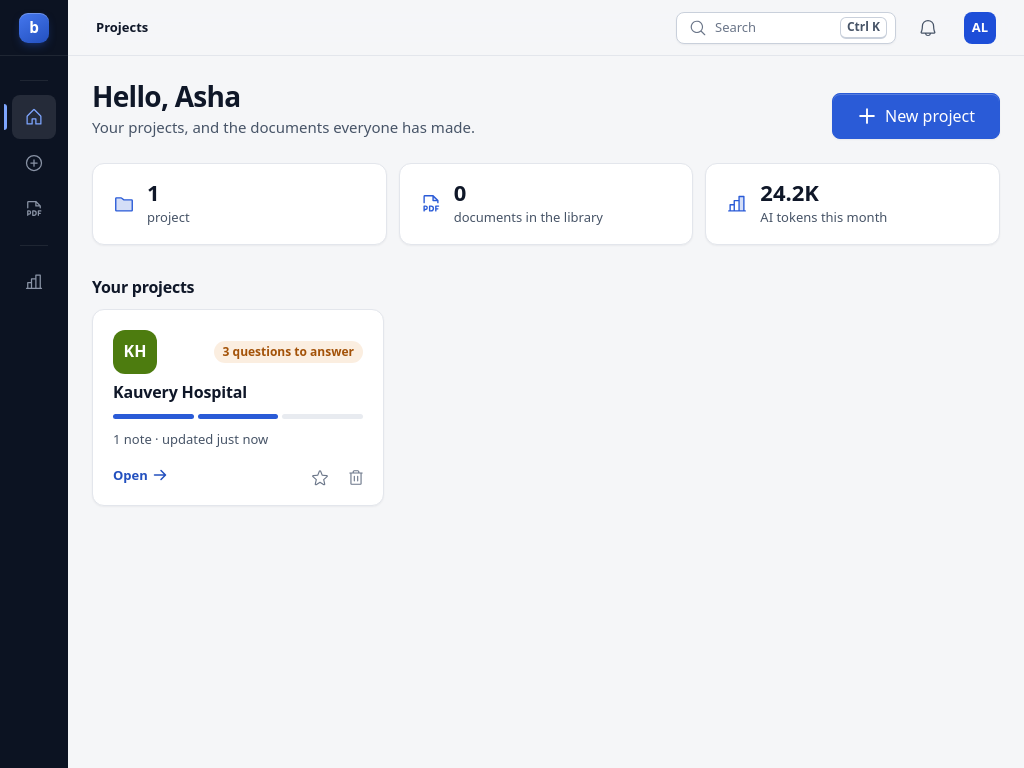
Test case: changing your own password › sends the passwords, keeps the person signed in with the new tokens, and says it worked
Click the button with aria-label "Account menu": x=980, y=28 x1=960 y1=8 x2=1000 y2=48
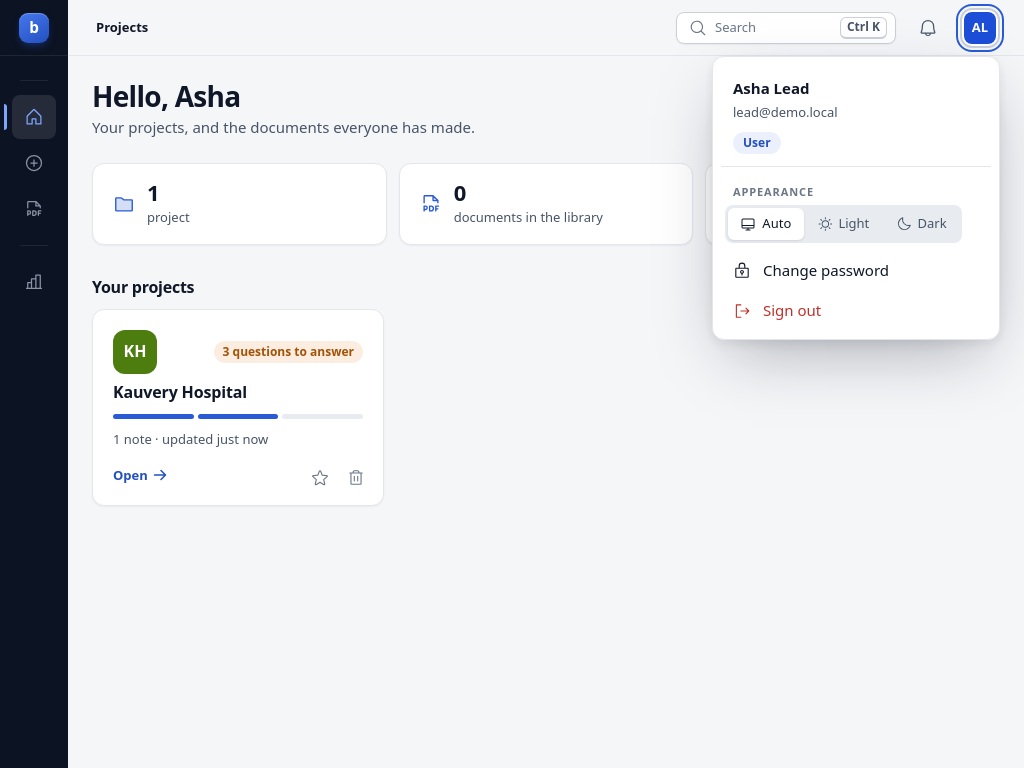
Click the menu item "Change password": x=856, y=270 x1=721 y1=250 x2=991 y2=290
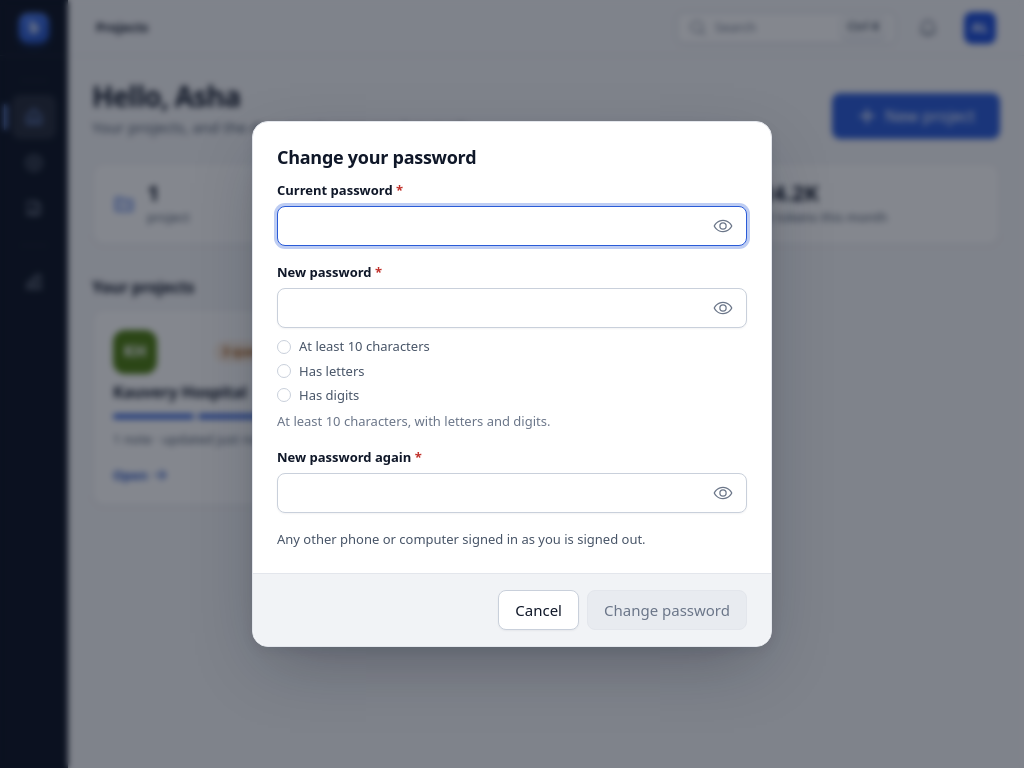
In the password field labelled "Current password": x=512, y=226 x1=277 y1=206 x2=747 y2=246, type "Old-Passw0rd-1"
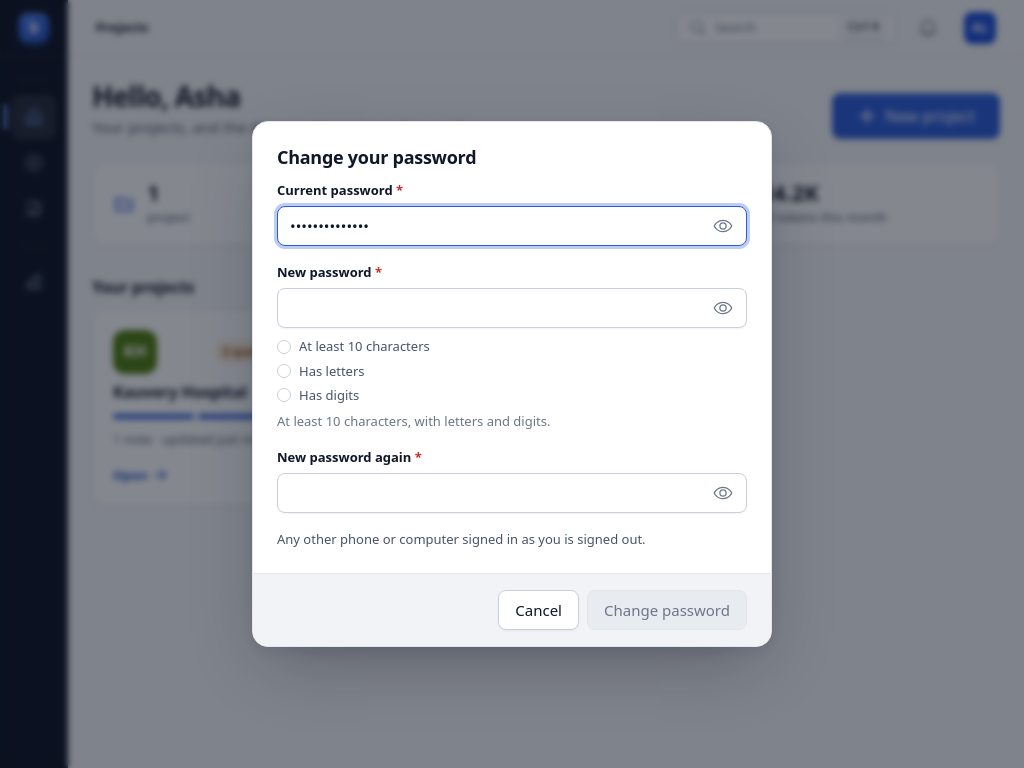
In the password field labelled "New password": x=512, y=308 x1=277 y1=288 x2=747 y2=328, type "New-Passw0rd-123"
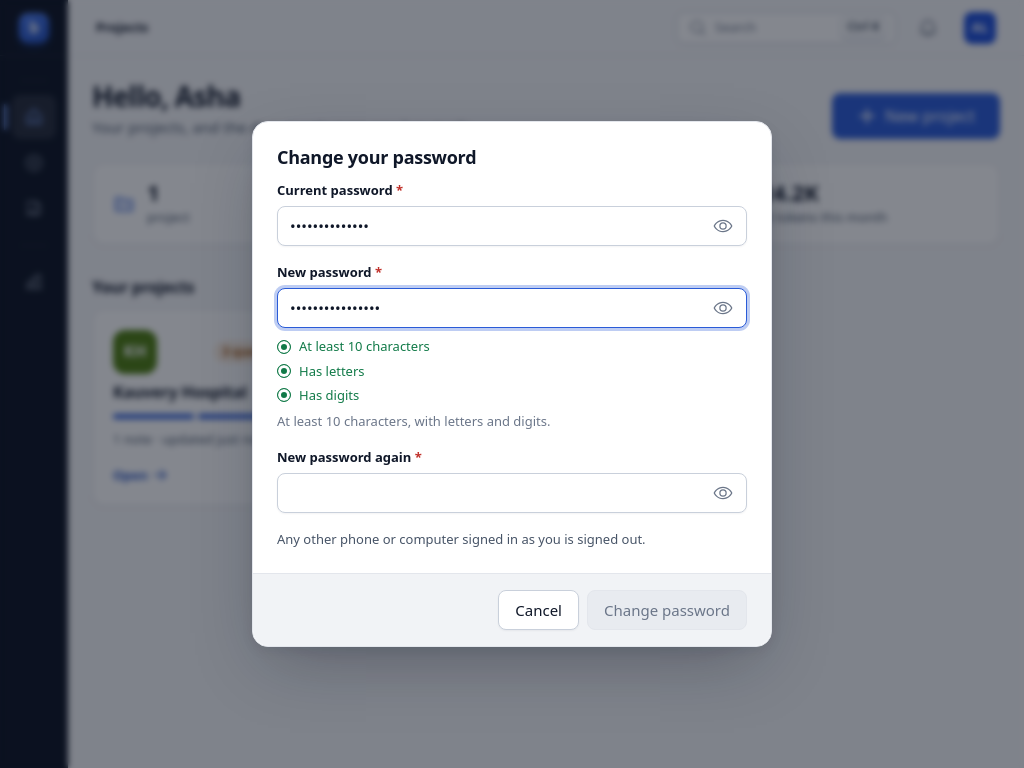
In the password field labelled "New password again": x=512, y=493 x1=277 y1=473 x2=747 y2=513, type "New-Passw0rd-123"
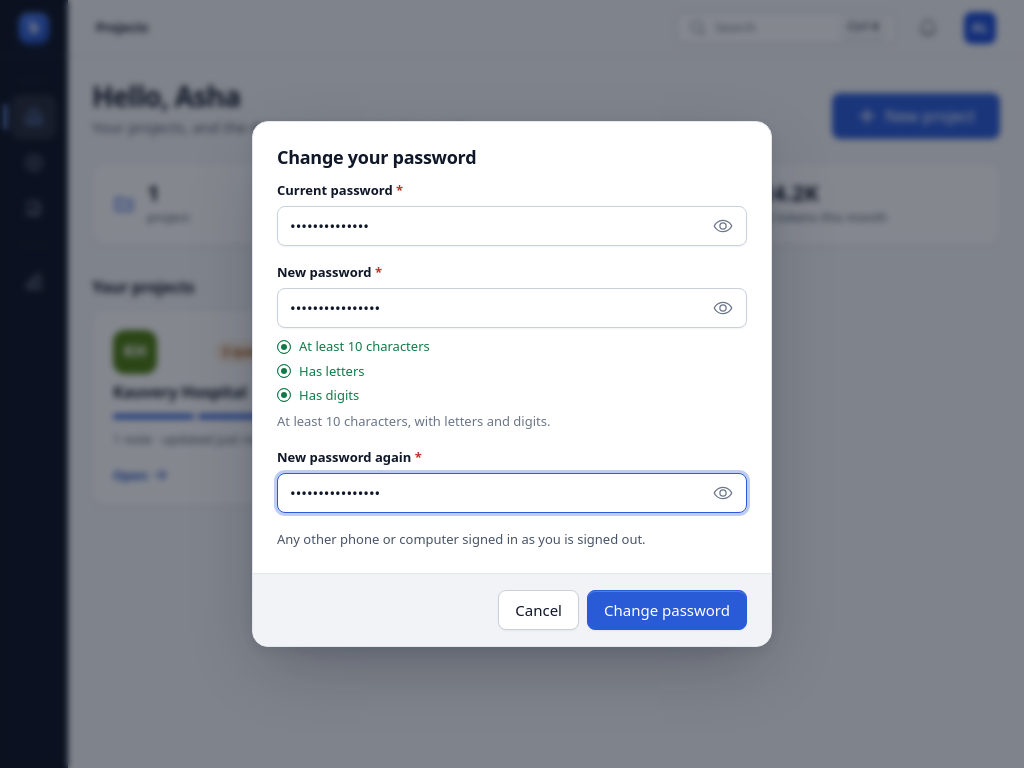
Click the button "Change password": x=667, y=610 x1=587 y1=590 x2=747 y2=630
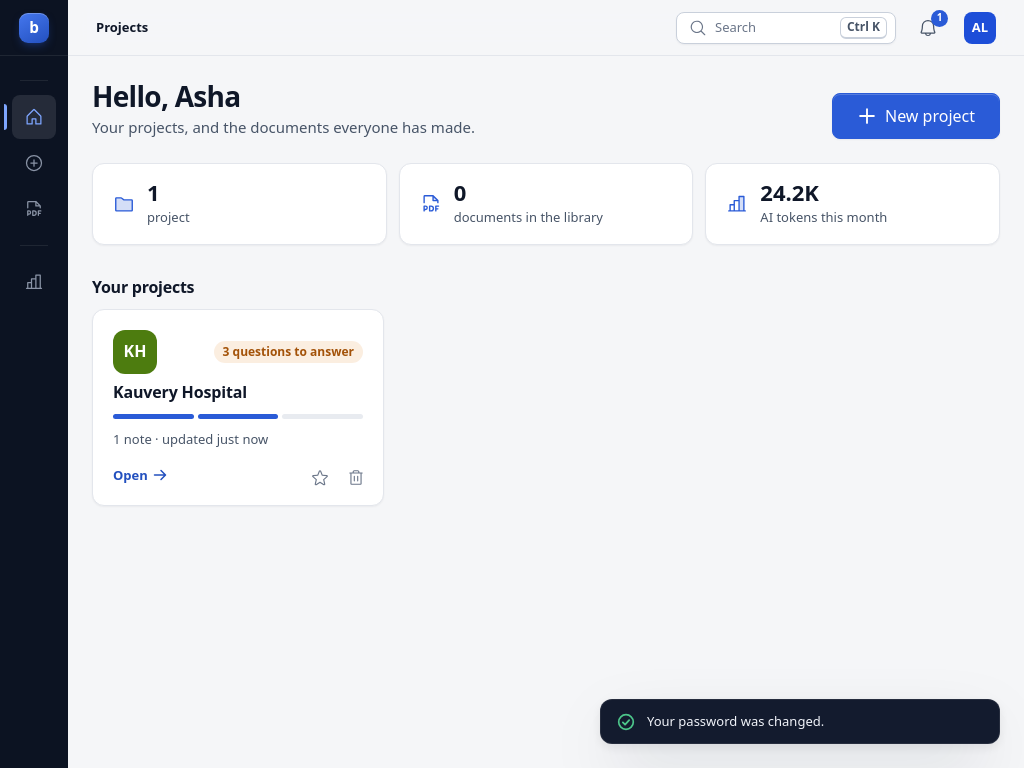
Check: the text "Your password was changed." is shown, box x1=647 y1=712 x2=824 y2=730
Check: the heading "Change your password" is gone
